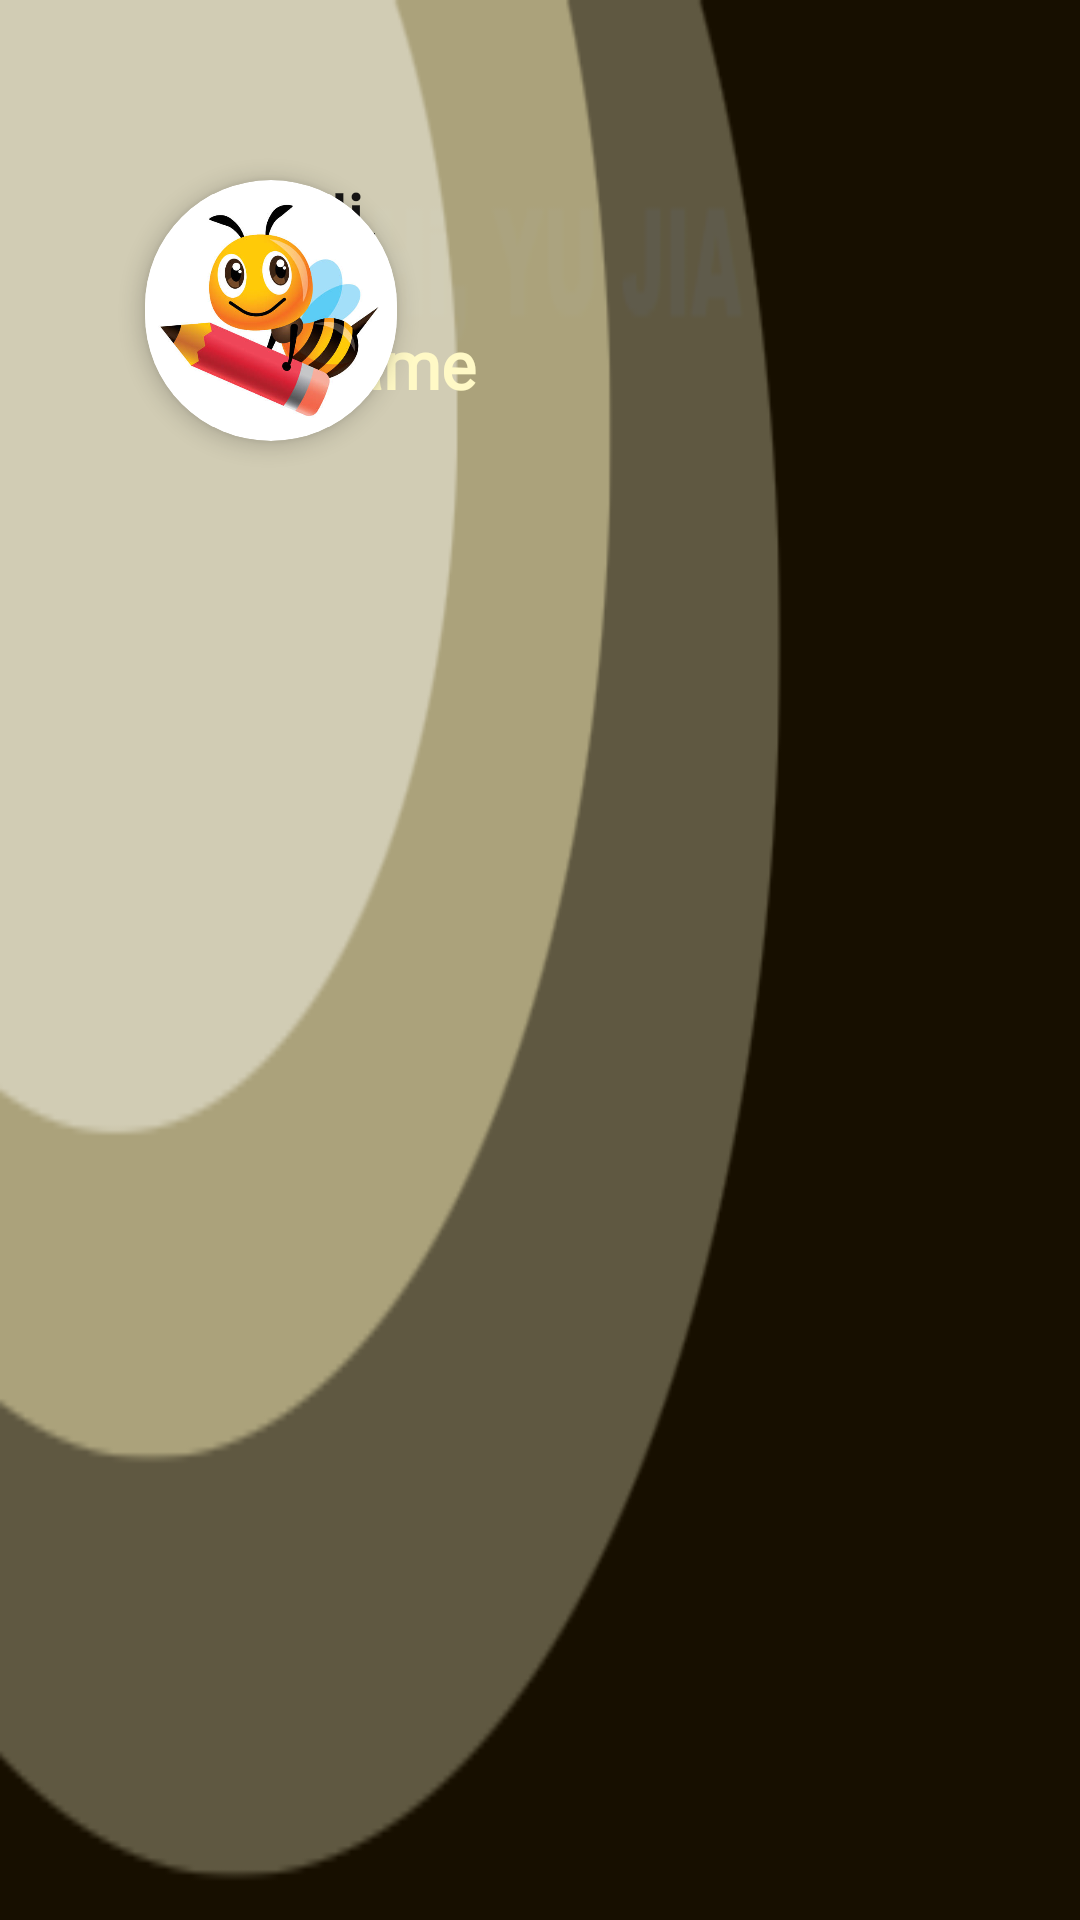

Screen size 1080px×1920px. Icon name, then its center in pixels as (x=x, y=y):
profile: (x=271, y=310)
